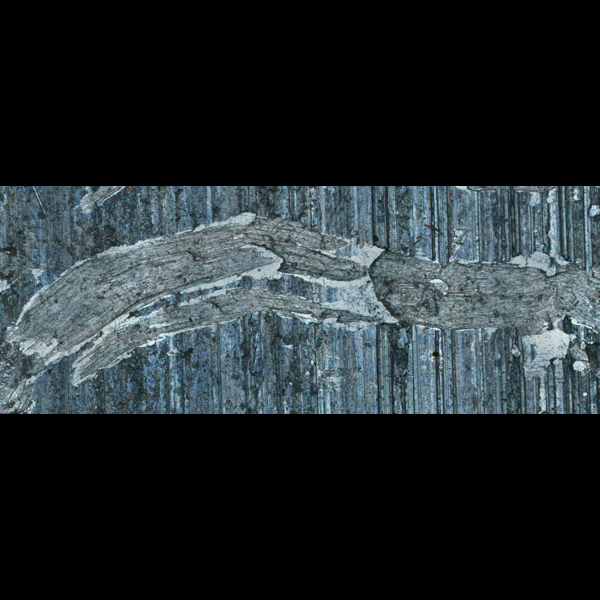d: (96, 206, 339, 342), (299, 221, 489, 337), (4, 259, 144, 406), (490, 234, 600, 392), (524, 185, 599, 222)
